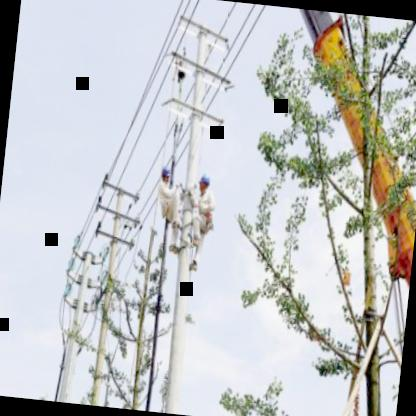helmet: (157, 161, 174, 188), (197, 168, 213, 194)
